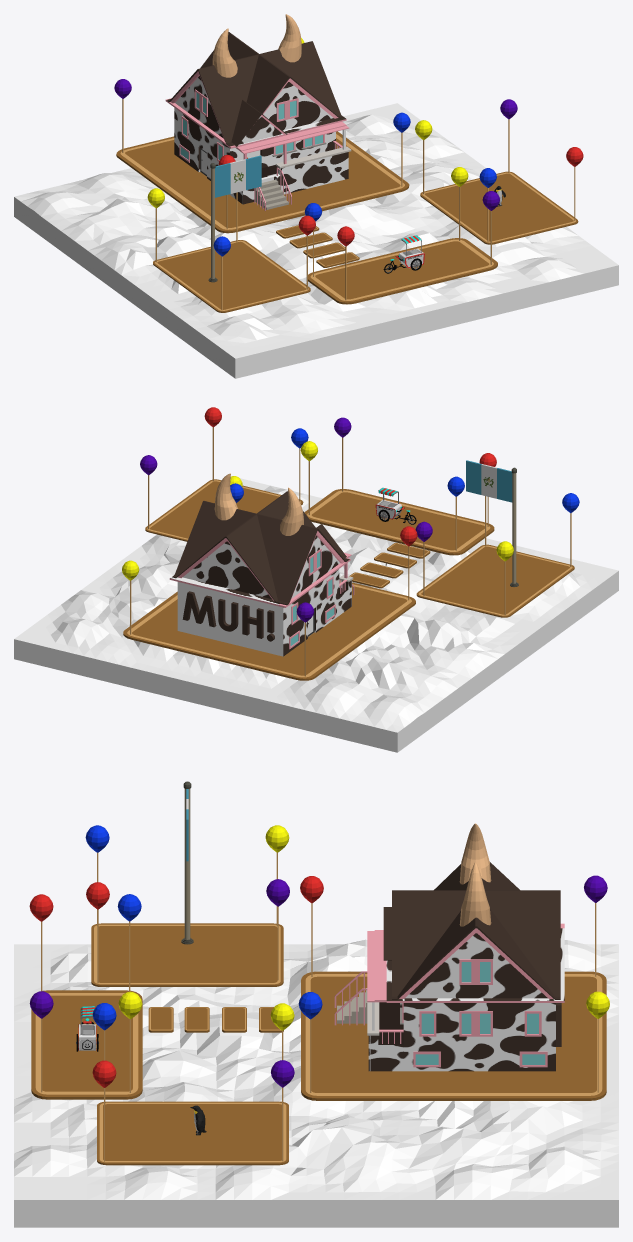
3 views of the same model, one above another, from view 1: azimuth 30°, elevation 25°; view 2: azimuth 150°, elevation 25°; view 3: azimuth 270°, elevation 25° (orthographic). The views are drawn at different scales.
Parts seen in each view (by area): view 1: Cube.013, Cube.1242, OBJRANDOM_GUATEMALAN_FLAG, VEHICLES_SNOWBAL_BIKE; view 2: Cube.013, Cube.1242, OBJRANDOM_GUATEMALAN_FLAG, VEHICLES_SNOWBAL_BIKE; view 3: Cube.013, Cube.1242, OBJRANDOM_GUATEMALAN_FLAG, VEHICLES_SNOWBAL_BIKE.
Boxes of the visible parts, x1,y1,x2,y2 form: Cube.013: [14, 37, 618, 378]; Cube.1242: [165, 14, 351, 210]; OBJRANDOM_GUATEMALAN_FLAG: [208, 155, 261, 282]; VEHICLES_SNOWBAL_BIKE: [383, 235, 424, 273]; Cube.013: [14, 407, 618, 752]; Cube.1242: [169, 473, 354, 656]; OBJRANDOM_GUATEMALAN_FLAG: [466, 460, 518, 586]; VEHICLES_SNOWBAL_BIKE: [375, 487, 416, 524]; Cube.013: [14, 825, 618, 1227]; Cube.1242: [334, 823, 564, 1071]; OBJRANDOM_GUATEMALAN_FLAG: [181, 781, 193, 944]; VEHICLES_SNOWBAL_BIKE: [76, 1006, 98, 1051].
Bounding box in the file's own units: 4000 × 1963 × 4000.
Materials: 40 (1 with a texture image).
